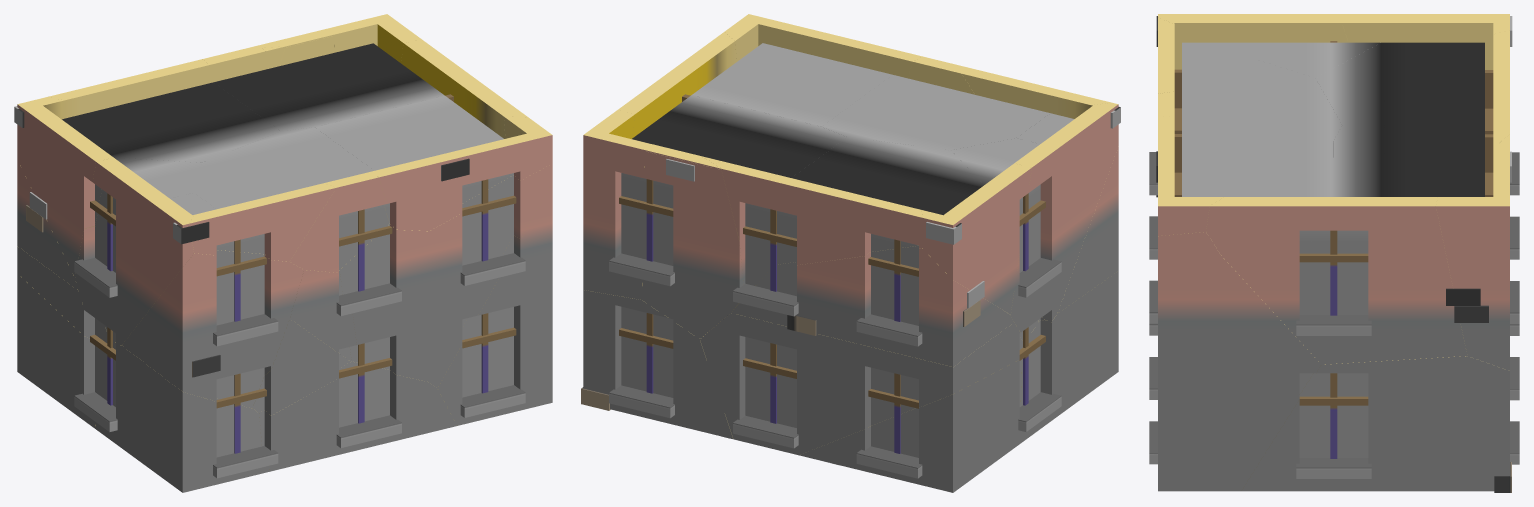
File: House_2_mid_cell.fbx
3 renders of one model, left to right at view 1: azimuth 30°, elevation 25°; view 2: azimuth 150°, elevation 25°; view 3: azimuth 270°, elevation 25°, orthographic. The views are drawn at different scales.
Visible parts, largest first — view 1: polySurface300_cell.023, polySurface300_cell.009, polySurface300_cell.002, polySurface300_cell.021, polySurface303_cell.004, polySurface303_cell.002, polySurface300_cell.017, polySurface300_cell.007, polySurface300_cell.016, polySurface300_cell.015, polySurface300_cell.011, polySurface303_cell.017 (+26 smaller); view 2: polySurface300_cell.012, polySurface300_cell.022, polySurface300_cell.018, polySurface300_cell.019, polySurface300_cell.021, polySurface300_cell.001, polySurface303_cell.017, polySurface300_cell.013, polySurface300_cell.010, polySurface303_cell.004, polySurface303_cell.013, polySurface303_cell.002 (+22 smaller); view 3: polySurface300_cell.014, polySurface300_cell.009, polySurface300_cell.001, polySurface303_cell.002, polySurface303_cell.017, polySurface303_cell.004, polySurface300_cell.013, polySurface303_cell.013, polySurface300_cell.021, polySurface300_cell.011, polySurface300_cell.016, polySurface303_cell.011 (+19 smaller).
Boxes of the visible parts, x1,y1,x2,y2 form: polySurface300_cell.023: (122,250,303,408); polySurface300_cell.009: (437,182,552,425); polySurface300_cell.002: (95,342,269,492); polySurface300_cell.021: (75,157,193,345); polySurface303_cell.004: (214,43,444,131); polySurface303_cell.002: (62,82,280,162); polySurface300_cell.017: (259,361,456,471); polySurface300_cell.007: (429,163,552,388); polySurface300_cell.016: (373,116,552,231); polySurface300_cell.015: (339,224,429,381); polySurface300_cell.011: (17,97,113,277); polySurface303_cell.017: (194,127,373,209); polySurface300_cell.012: (700,313,1022,455); polySurface300_cell.022: (731,245,1013,366); polySurface300_cell.018: (642,151,743,338); polySurface300_cell.019: (799,360,1030,492); polySurface300_cell.021: (1010,102,1118,340); polySurface300_cell.001: (583,290,732,438); polySurface303_cell.017: (822,75,1049,149); polySurface300_cell.013: (583,109,651,299); polySurface300_cell.010: (768,174,922,264); polySurface303_cell.004: (632,95,846,177); polySurface303_cell.013: (692,43,892,126); polySurface303_cell.002: (792,137,983,215); polySurface300_cell.014: (1206,197,1467,364); polySurface300_cell.009: (1158,256,1321,491); polySurface300_cell.001: (1241,356,1509,491); polySurface303_cell.002: (1316,42,1484,125); polySurface303_cell.017: (1182,59,1341,142); polySurface303_cell.004: (1333,125,1484,196); polySurface300_cell.013: (1436,174,1509,370); polySurface303_cell.013: (1182,141,1333,196); polySurface300_cell.021: (1158,14,1348,69); polySurface300_cell.011: (1342,14,1509,69); polySurface300_cell.016: (1158,116,1223,235); polySurface303_cell.011: (1254,42,1380,77).
Size of the model in its own units: 1414 by 978 by 1105.
